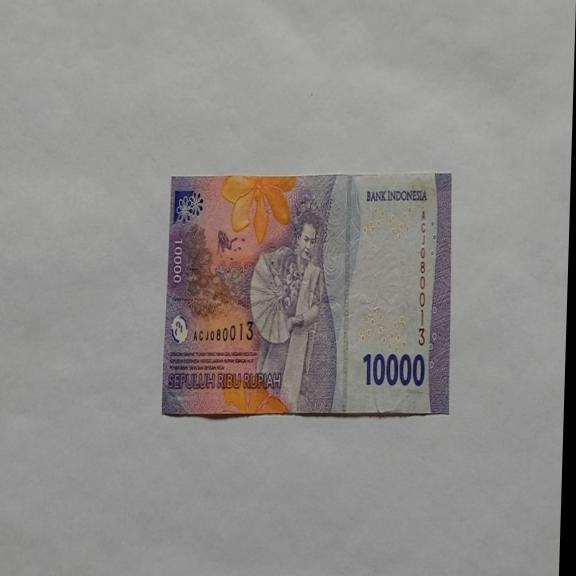Kertas: (161, 172, 455, 418), (361, 350, 426, 388)
